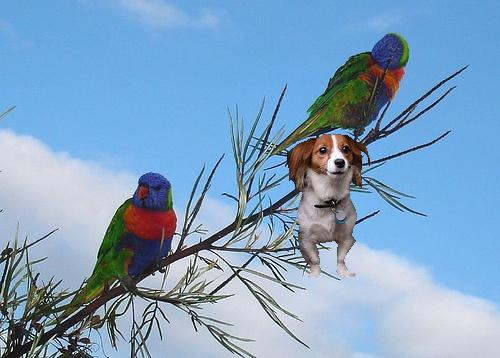tampered: (288, 135, 370, 277)
